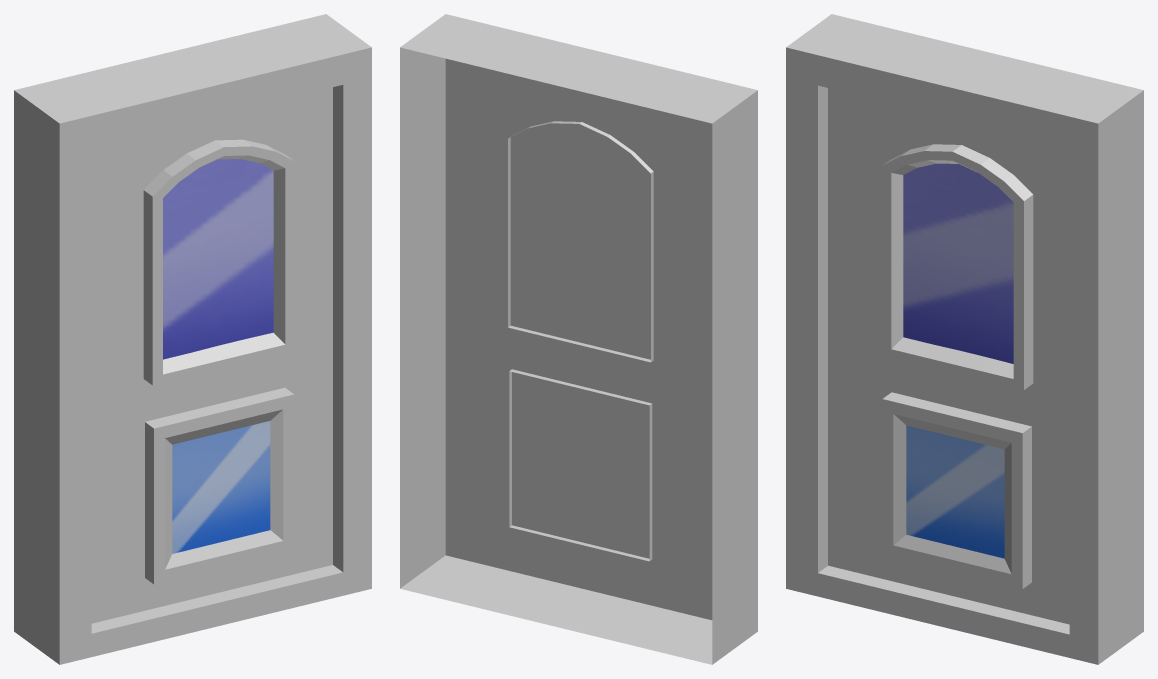
Rendered from Door_03.fbx.
The picture shows the model from 3 angles, left to right: view 1: azimuth 30°, elevation 25°; view 2: azimuth 150°, elevation 25°; view 3: azimuth 330°, elevation 25°; orthographic projection.
Visible parts, largest first — view 1: polySurface180, polySurface181, polySurface182; view 2: polySurface180, polySurface181, polySurface182; view 3: polySurface180, polySurface181, polySurface182.
Boxes of the visible parts, left/top/right/bottom form: polySurface180: left=14, top=14, right=371, bottom=664; polySurface181: left=143, top=139, right=295, bottom=385; polySurface182: left=145, top=387, right=294, bottom=584; polySurface180: left=400, top=14, right=757, bottom=664; polySurface181: left=508, top=121, right=653, bottom=362; polySurface182: left=509, top=369, right=652, bottom=561; polySurface180: left=786, top=14, right=1143, bottom=664; polySurface181: left=881, top=144, right=1033, bottom=389; polySurface182: left=882, top=392, right=1031, bottom=588.
Bounding box in the file's own units: 152 × 252 × 38.5.
